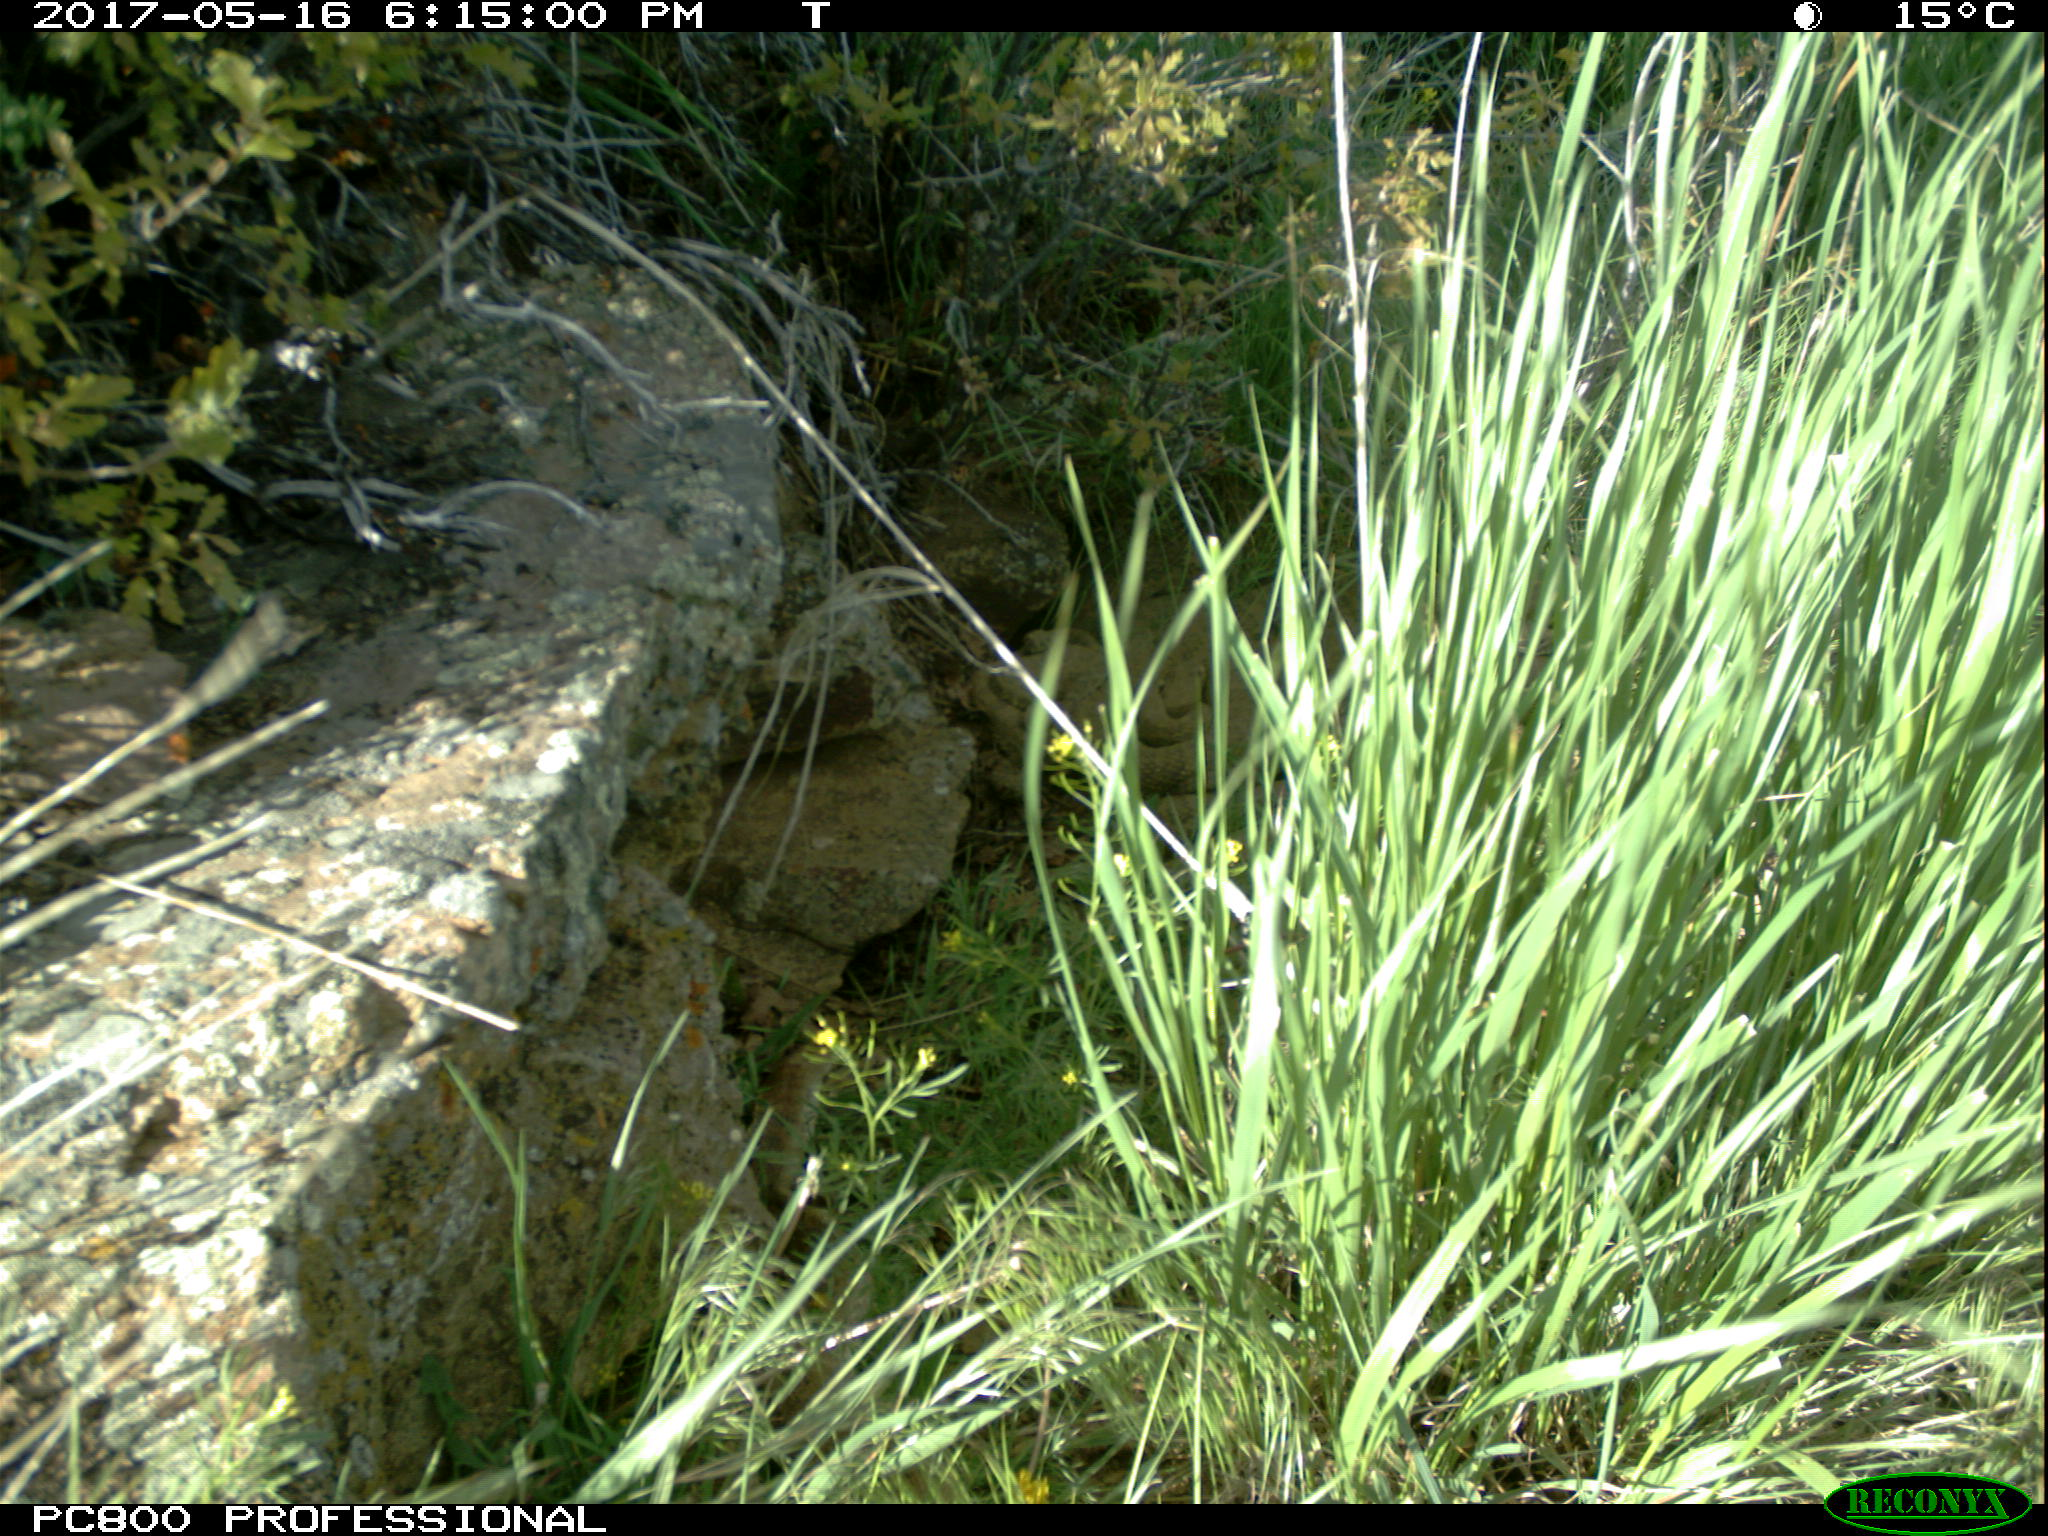snake: (977, 626, 1143, 778), (1122, 645, 1214, 792)
